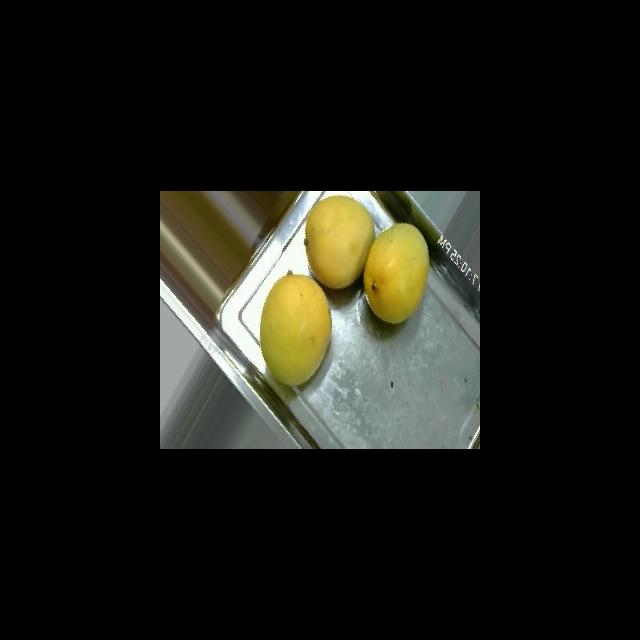Mango: (259, 272, 331, 386), (363, 222, 429, 324), (304, 194, 374, 289)
